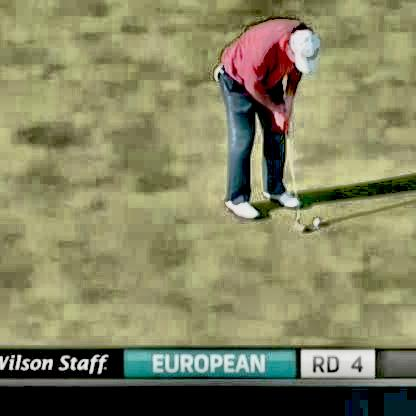golfball: (309, 217, 319, 227)
